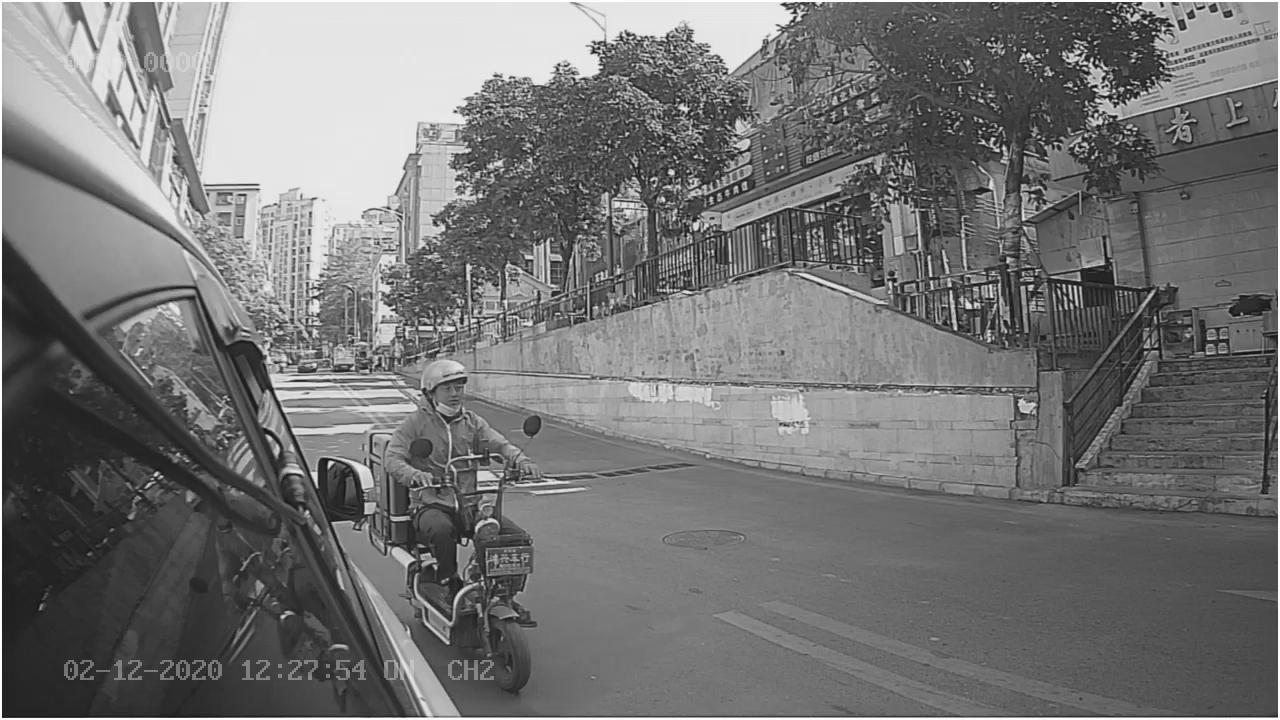person: (382, 347, 544, 486)
